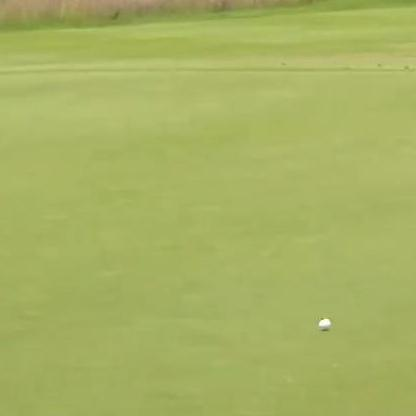golfball: (315, 316, 331, 332)
